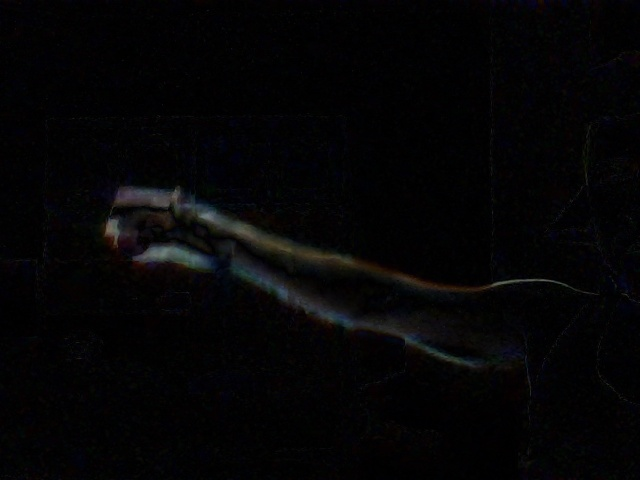hand_pa: (97, 184, 215, 273)
